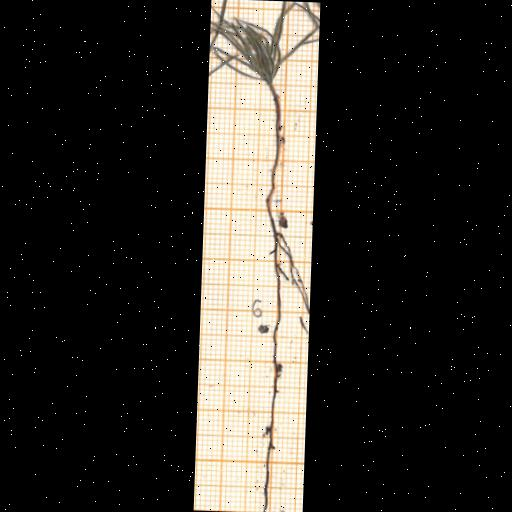flowerPinus: (212, 1, 288, 84)
rootPinus: (265, 196, 309, 511)
stemPinus: (271, 85, 281, 192)
